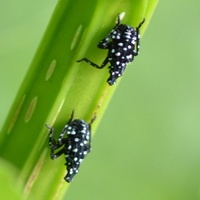insect: (77, 14, 144, 84), (46, 111, 95, 181)
